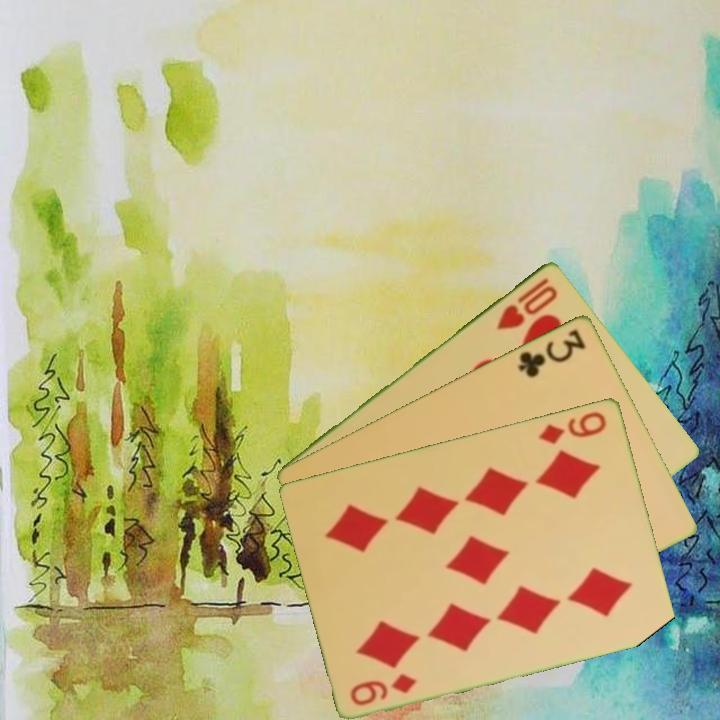10h: (493, 273, 561, 333)
3c: (514, 324, 589, 380)
9d: (534, 407, 610, 447), (346, 669, 420, 708)
